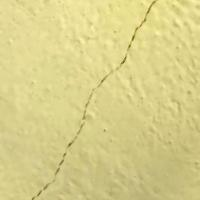crack: (22, 0, 160, 199)
